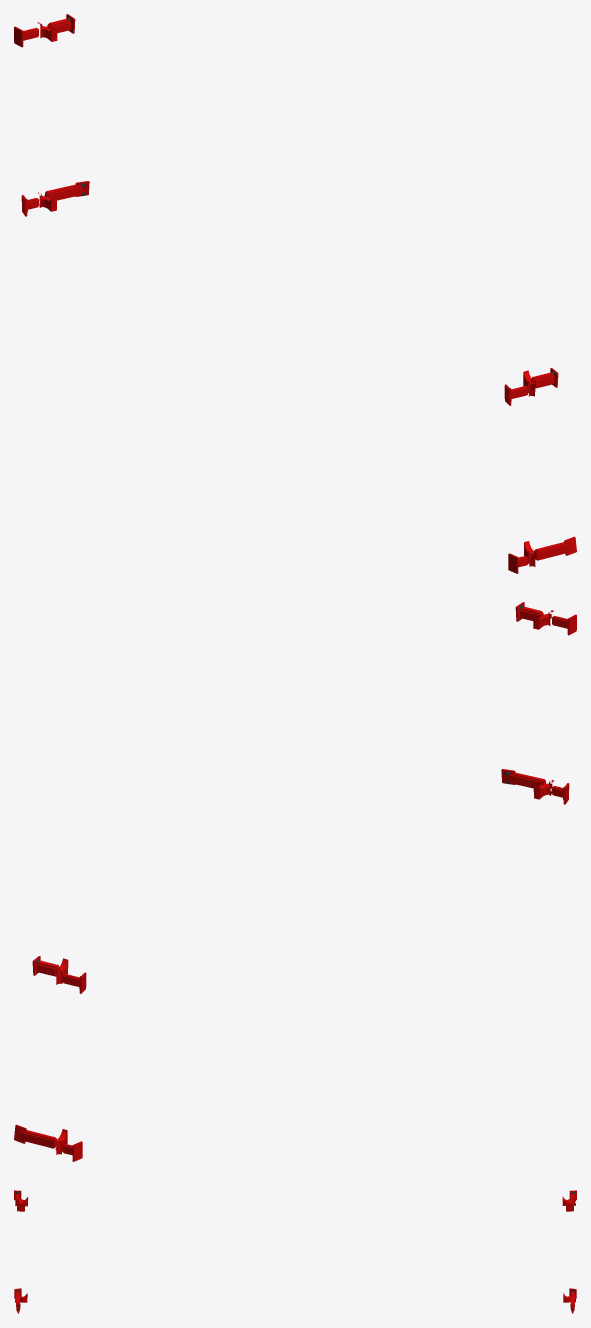
File: ferrari-door-hinges.glb
3 renders of one model, top to bottom at view 1: azimuth 30°, elevation 25°; view 2: azimuth 150°, elevation 25°; view 3: azimuth 270°, elevation 25°, orthographic. The views are drawn at different scales.
Parts seen in each view (by area): view 1: hinge_door_P_0, hinge_door_N_0; view 2: hinge_door_N_0, hinge_door_P_0; view 3: no part large enough to name.
Boxes of the visible parts, x1=… form: hinge_door_P_0: x1=524, y1=536, x2=576, y2=566; hinge_door_N_0: x1=38, y1=181, x2=89, y2=211; hinge_door_N_0: x1=14, y1=1124, x2=67, y2=1154; hinge_door_P_0: x1=501, y1=769, x2=554, y2=799.
Size of the model in its own units: 0.1516 by 0.3851 by 1.83.
